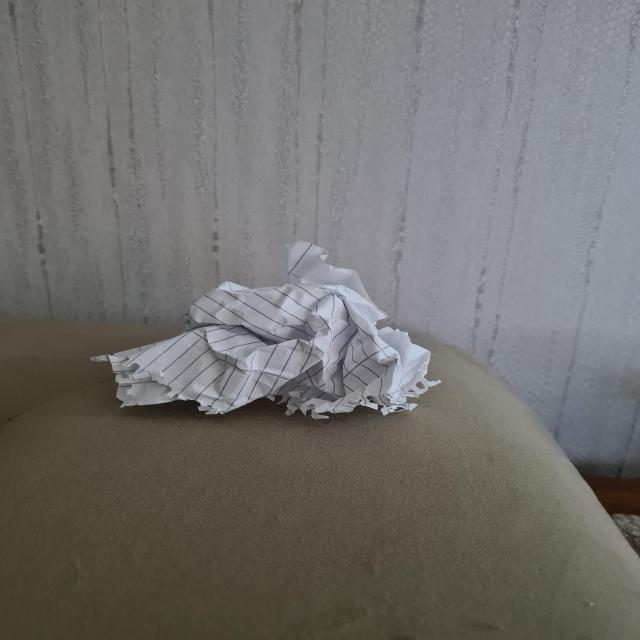trash: (96, 242, 437, 422)
